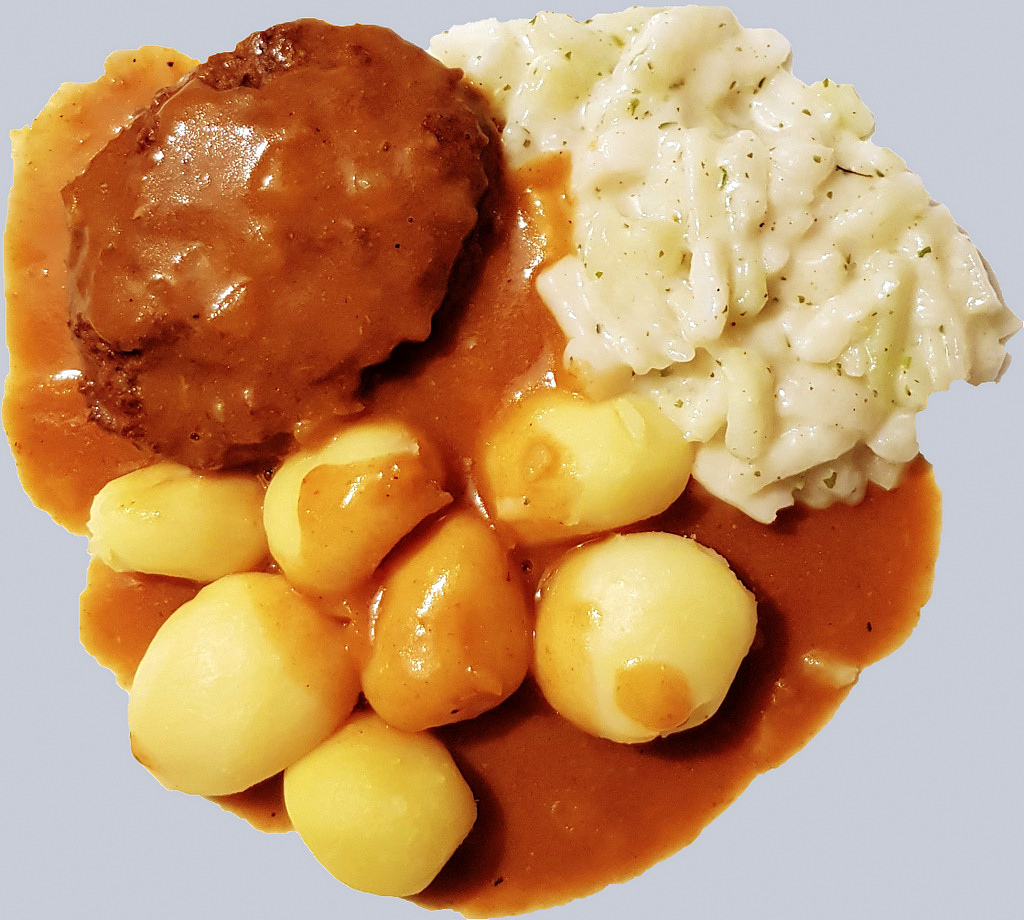boiled potatoes: (119, 493, 491, 857)
meatballs: (81, 39, 458, 408)
